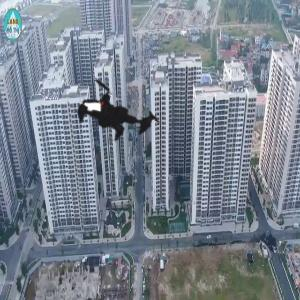drone: (57, 48, 181, 172)
